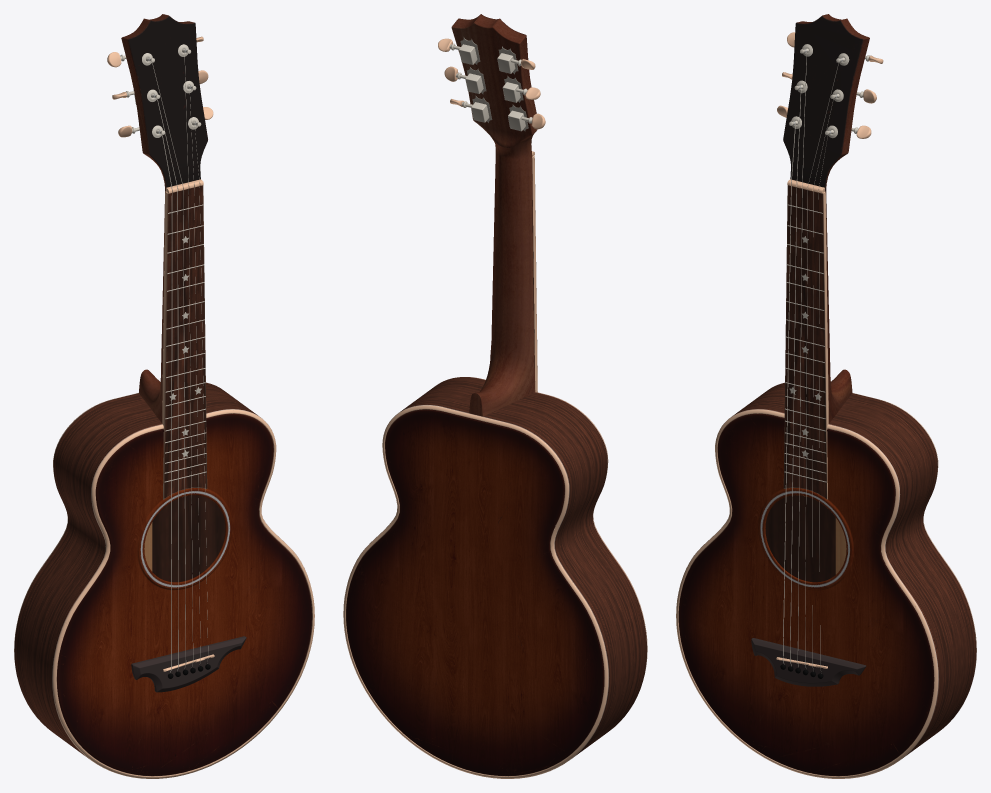
The model's file is guitar.glb.
The picture shows the model from 3 angles, left to right: view 1: azimuth 30°, elevation 25°; view 2: azimuth 150°, elevation 25°; view 3: azimuth 330°, elevation 25°; orthographic projection.
Visible parts, largest first — view 1: guitar_acoustic_base_realistic_lod0; view 2: guitar_acoustic_base_realistic_lod0; view 3: guitar_acoustic_base_realistic_lod0.
Boxes of the visible parts, box(x1,y1,x2,y2) form: guitar_acoustic_base_realistic_lod0: box(14, 14, 314, 778); guitar_acoustic_base_realistic_lod0: box(343, 14, 647, 778); guitar_acoustic_base_realistic_lod0: box(676, 14, 976, 778).
Bounding box in the file's own units: 0.3644 × 0.9942 × 0.1113.
Materials: 1 (1 with a texture image).
